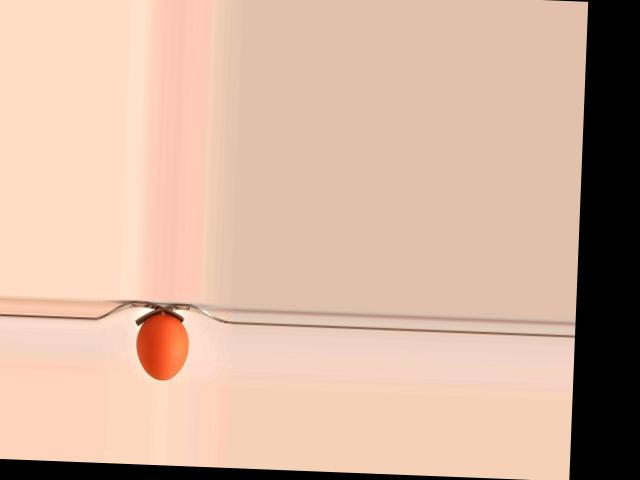egg: (136, 312, 190, 380)
